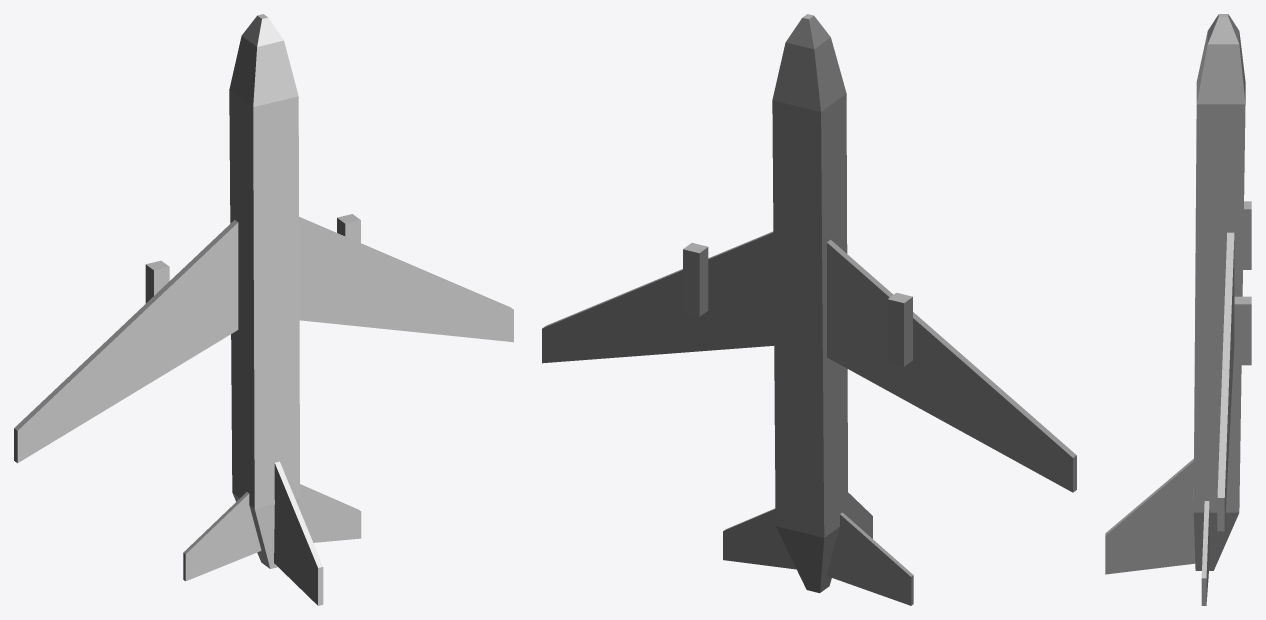
The model's file is aircraft.glb.
3 renders of one model, left to right at view 1: azimuth 30°, elevation 25°; view 2: azimuth 150°, elevation 25°; view 3: azimuth 270°, elevation 25°, orthographic. The views are drawn at different scales.
Visible parts, largest first — view 1: aircraft; view 2: aircraft; view 3: aircraft.
Boxes of the visible parts, x1=… form: aircraft: x1=14, y1=14, x2=513, y2=605; aircraft: x1=542, y1=14, x2=1076, y2=605; aircraft: x1=1105, y1=14, x2=1251, y2=605.
Size of the model in its own units: 0.96 by 1.01 by 0.24.
1 material, 1 textured.
